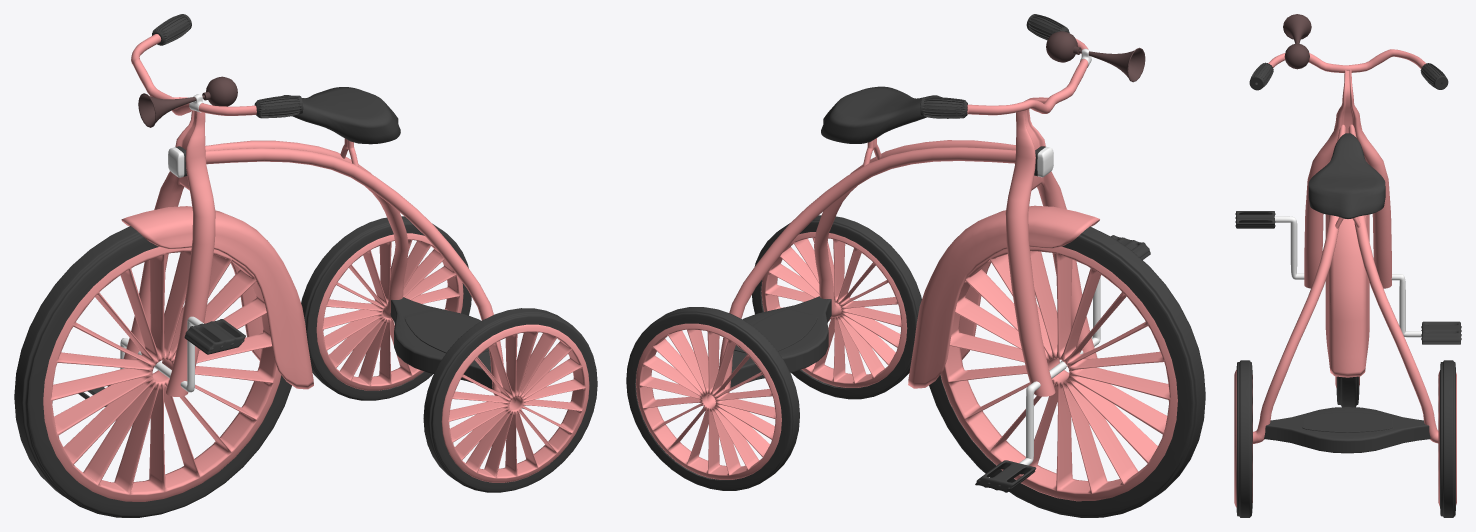
The model's file is triciclo.fbx.
3 renders of one model, left to right at view 1: azimuth 30°, elevation 25°; view 2: azimuth 150°, elevation 25°; view 3: azimuth 270°, elevation 25°, orthographic. The views are drawn at different scales.
Visible parts, largest first — view 1: tricycle_grp2; view 2: tricycle_grp2; view 3: tricycle_grp2.
Boxes of the visible parts, x1,y1,x2,y2 form: tricycle_grp2: [14, 14, 597, 517]; tricycle_grp2: [626, 14, 1205, 517]; tricycle_grp2: [1234, 14, 1461, 517].
Bounding box in the file's own units: 20.81 × 17.5 × 9.87.
